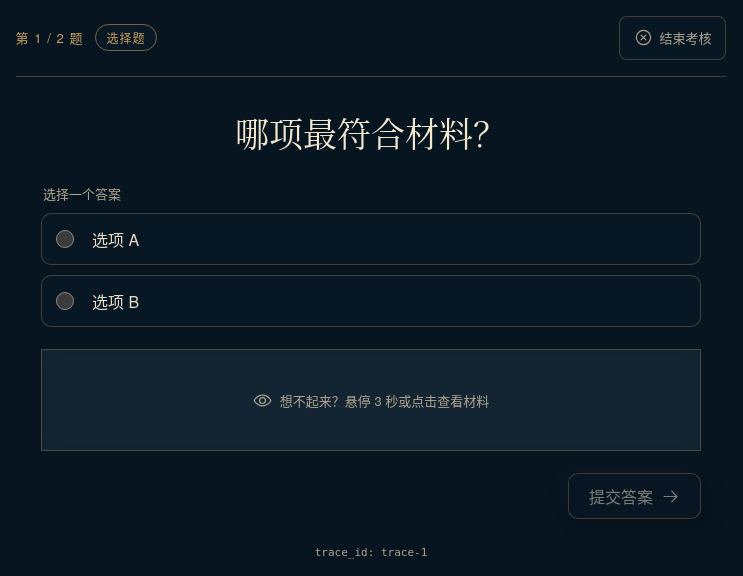
Test case: AssessmentPanel › restarts the full hover countdown after the pointer leaves
This screenshot has width=743, height=576.
Expected: the heading "哪项最符合材料？" is shown, [235,108,507,156]
Hover over the button with aria-label "揭示本题材料证据" at (371, 400), box [42,350,700,450]
Wait 1500 ms
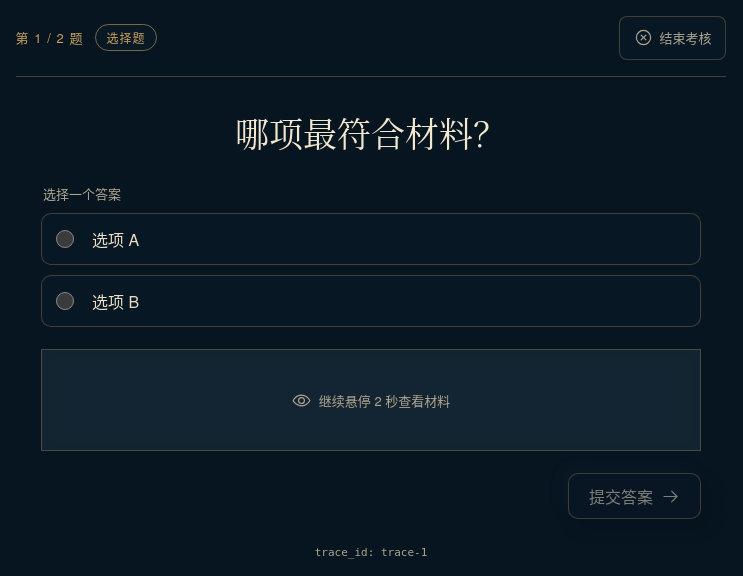
Move the pointer off the button with aria-label "揭示本题材料证据", box [42,350,700,450]
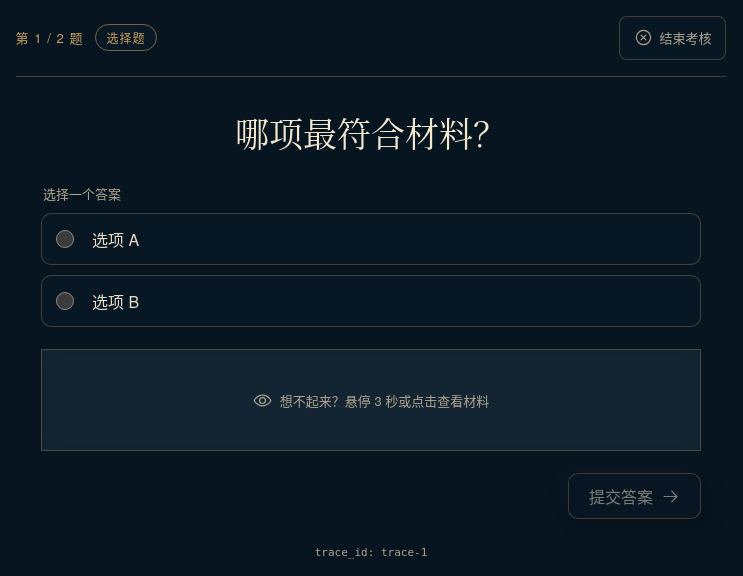
Result: the button "想不起来？悬停 3 秒或点击查看材料" is shown
Hover over the button "想不起来？悬停 3 秒或点击查看材料" at (371, 400), box [42,350,700,450]
Wait 3000 ms
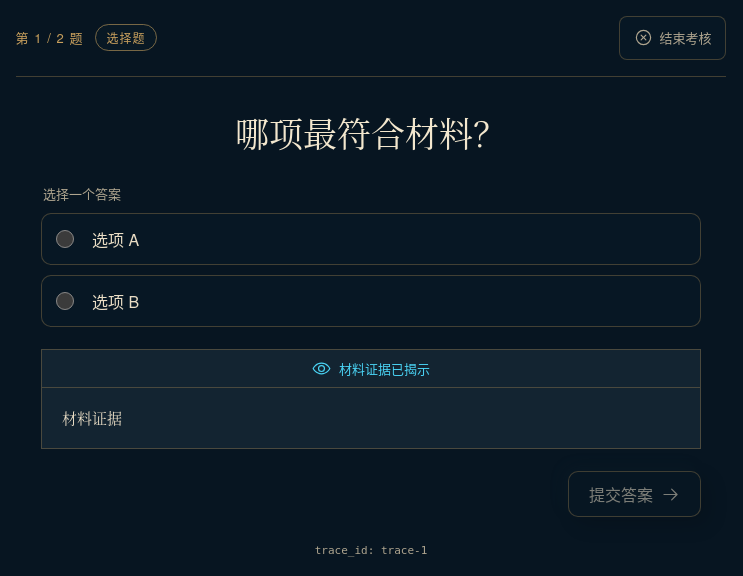
Expected: the button "继续悬停 3 秒查看材料" is shown, [42,350,700,388]
Result: the text "材料证据" is shown at [62,407,122,428]
